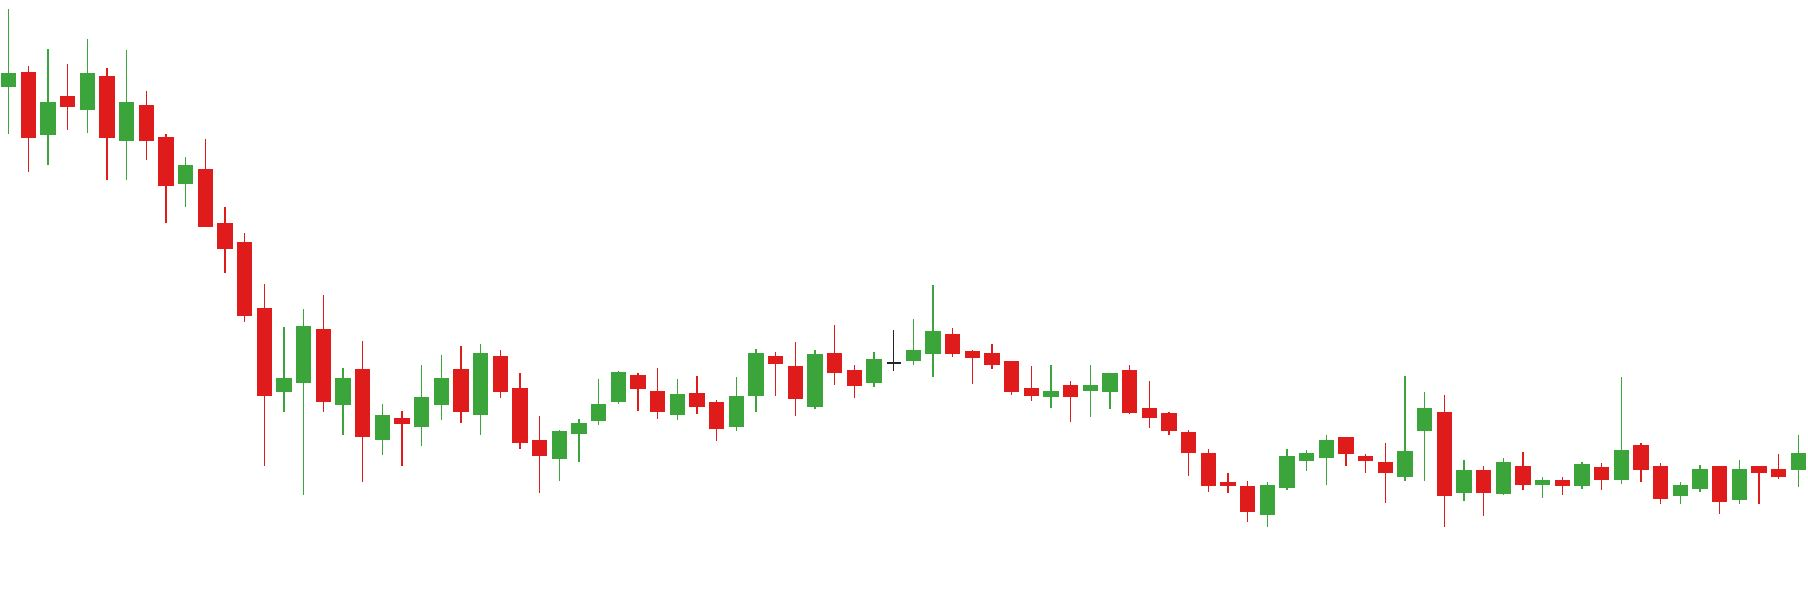buy: (349, 378, 571, 497)
sell: (827, 285, 946, 384)
